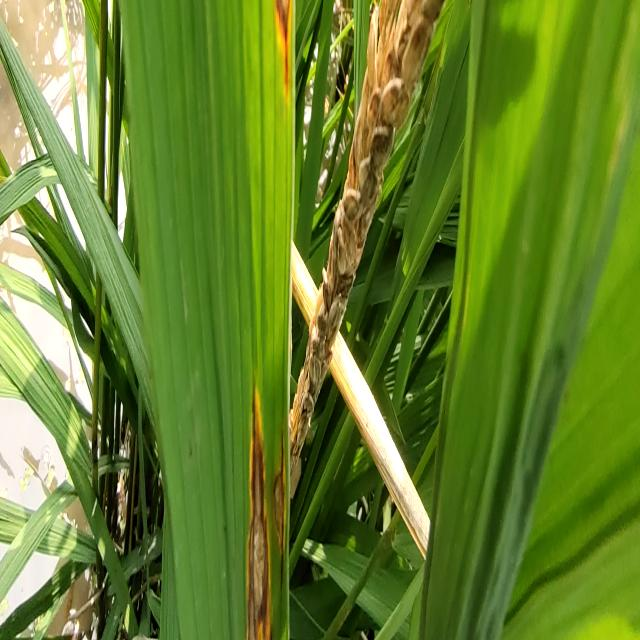LEAF BLAST: (245, 388, 272, 640), (273, 439, 285, 559), (276, 0, 291, 93)
